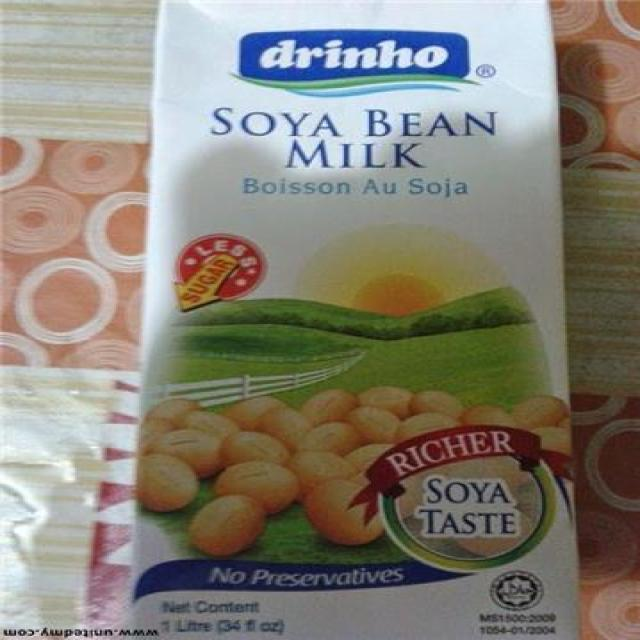drink carton: (126, 0, 586, 640)
